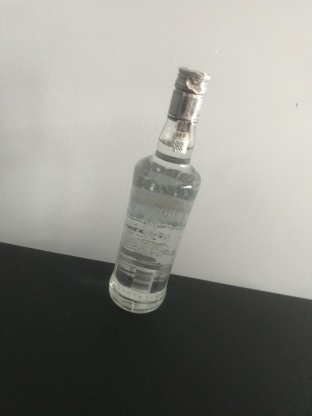nakretka: (165, 65, 211, 126)
